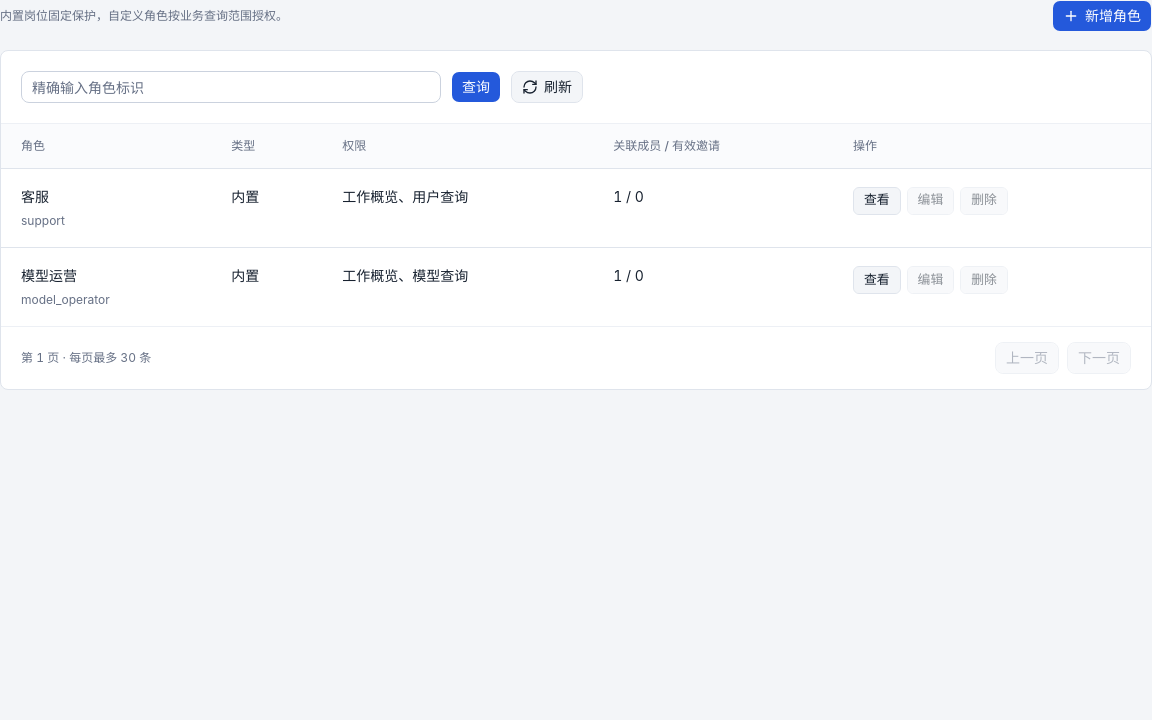
Test: allows reading a protected built-in role but never editing or deleting it
Check: the button "编辑" in the row of "客服" is disabled, box [907, 186, 954, 214]
Check: the button "删除" in the row of "客服" is disabled, box [960, 186, 1008, 214]
Click the button "查看" in the row of "客服" at (877, 200), box [853, 186, 901, 214]
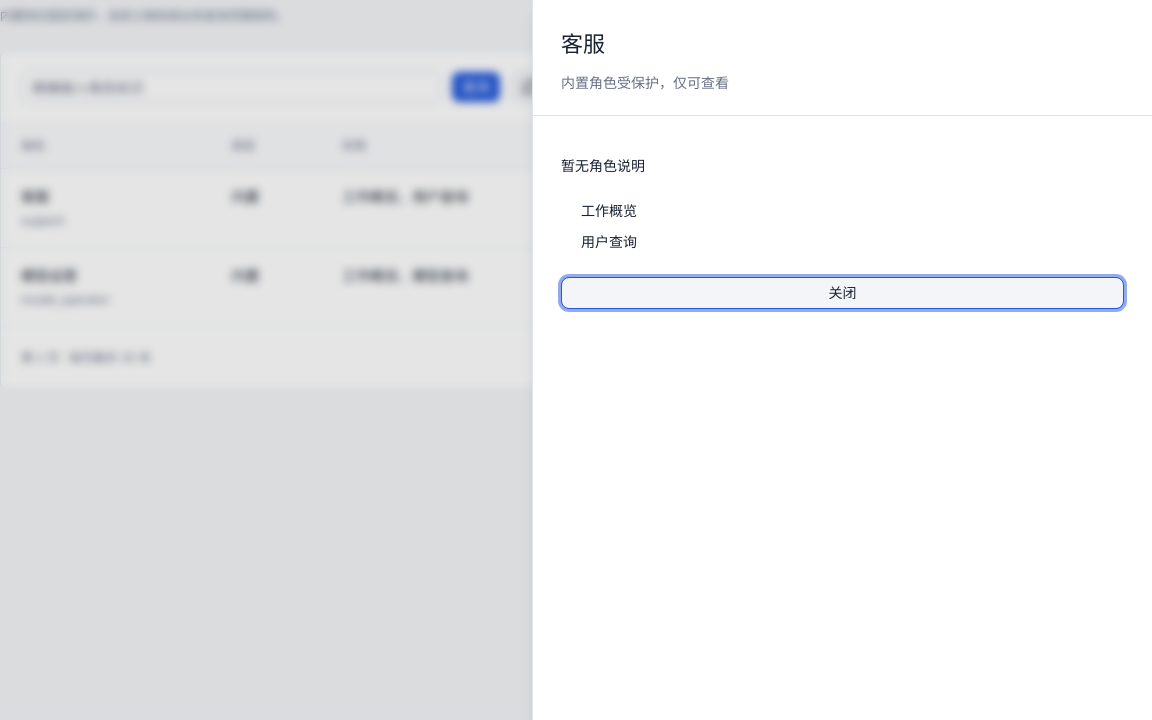
Check: the text "内置角色受保护，仅可查看" is shown, box [561, 74, 729, 91]
Check: the list item "用户查询" is shown, box [581, 233, 637, 250]
